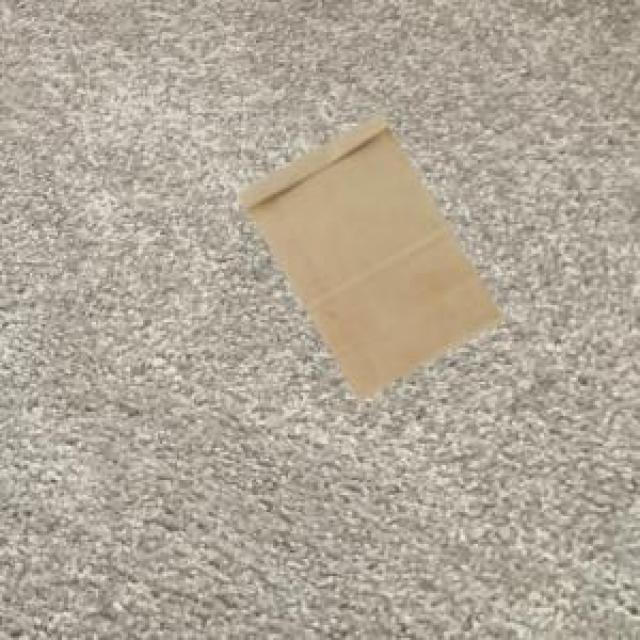paper: (237, 111, 499, 397)
